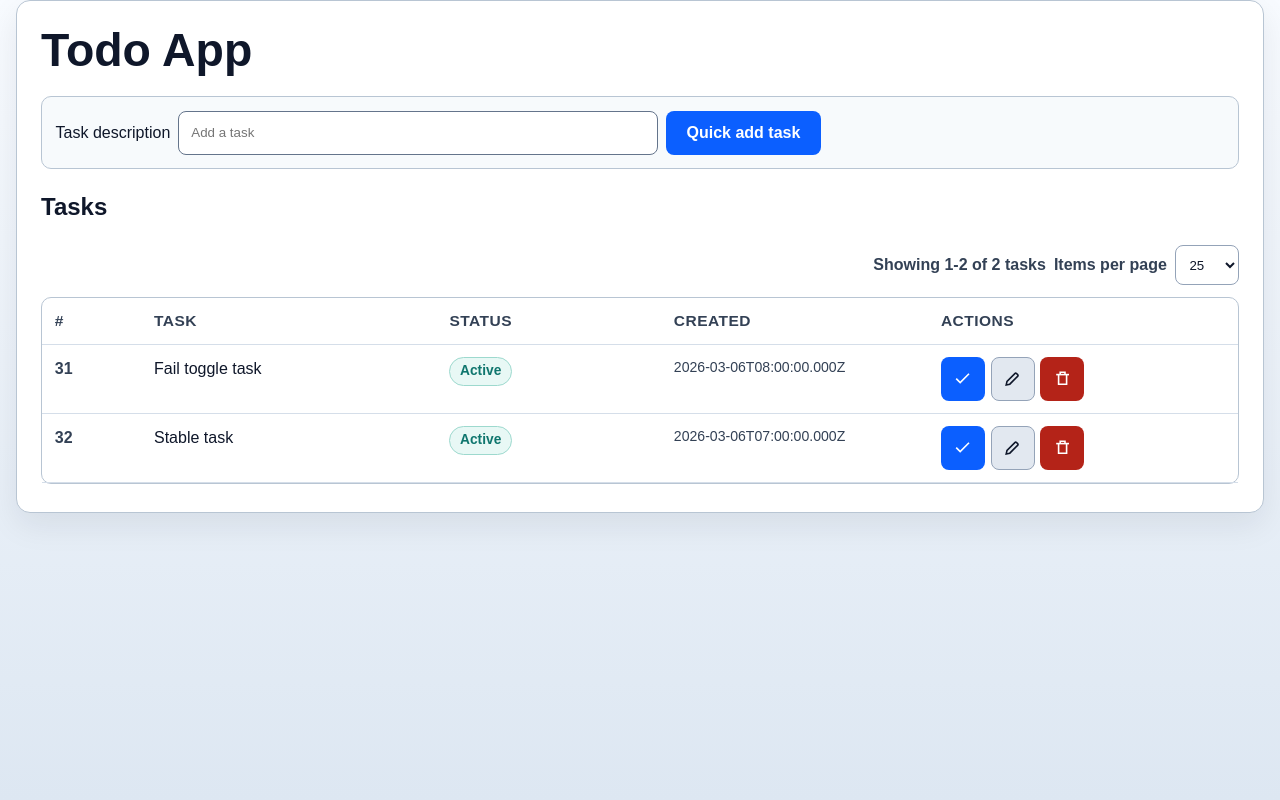
Scenario: Task list and quick-add flows › rolls back optimistic toggle and shows scoped error on update failure
Expected: the text "Fail toggle task" is shown, [154,360,262,377]
Click the button named "Mark task \"Fail toggle task\" as complete" at (963, 379), box [941,357,985,401]
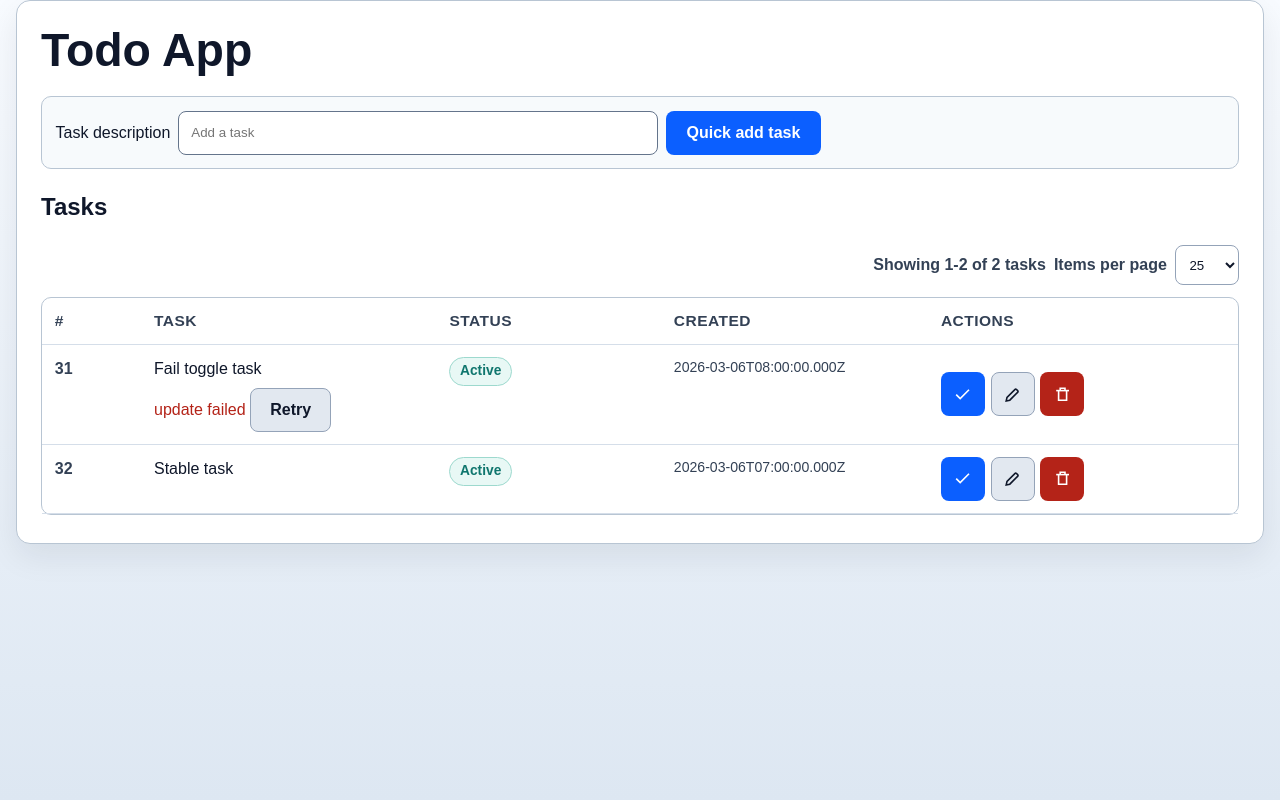
Expected: the button named "Mark task \"Fail toggle task\" as complete" is shown, [941,372,985,416]
Result: the message shows "update failed" at [154,401,246,418]
